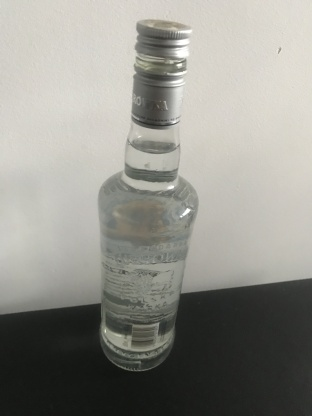nakretka: (129, 17, 193, 130)
